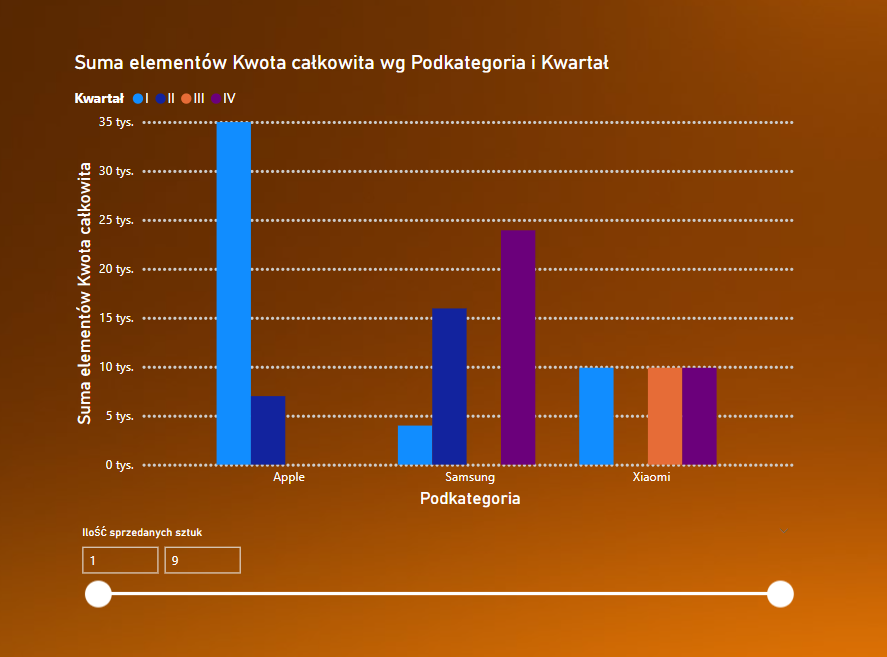

The dashboard page shown, as its layout file describes it:
{"tool":"powerbi","page":{"name":"Strona 5","canvas":[1280,720],"ordinal":4},"visuals":[{"type":"clusteredColumnChart","fields":{"Category":["Produkty.Kategoria","Produkty.Podkategoria","Produkty.Nazwa "],"Y":["Sum(Zamówienia.Kwota całkowita)"],"Series":["Kalendarz.Kwartał"]},"box":[268.5,61.8,712.9,449.6],"z":0},{"type":"slicer","fields":{"Values":["Zamówienia.Ilość sprzedanych sztuk"]},"box":[268.7,518.9,713,148.4],"z":1000}]}

Visuals, with their boxes on the page's 1280x720 design canvas (x1, y1, x2, y2). These are canvas units, not pixel positions in the 887x657 screenshot, which may show the page scaled, cropped or inside an application window:
clusteredColumnChart - Produkty.Kategoria x Produkty.Podkategoria: bbox=[268, 62, 981, 511]
slicer - Zamówienia.Ilość sprzedanych sztuk: bbox=[269, 519, 982, 667]
